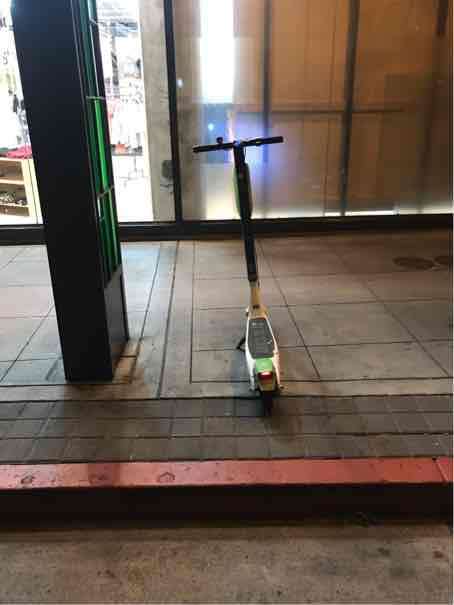scooter: (183, 130, 294, 419)
